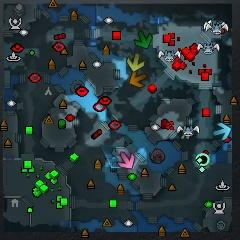p2Clone: (196, 152, 210, 166)
x1: (119, 152, 135, 169)
x2: (127, 53, 144, 71)
x3: (213, 122, 231, 141)
x4: (135, 30, 153, 48)
x5: (129, 71, 147, 88)
